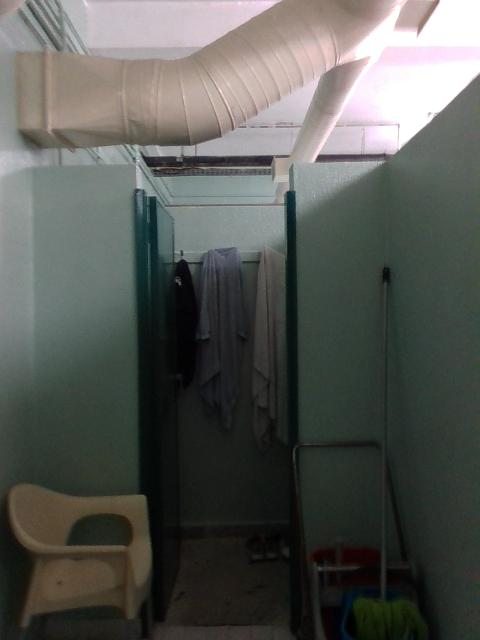open_door: (133, 164, 304, 638)
